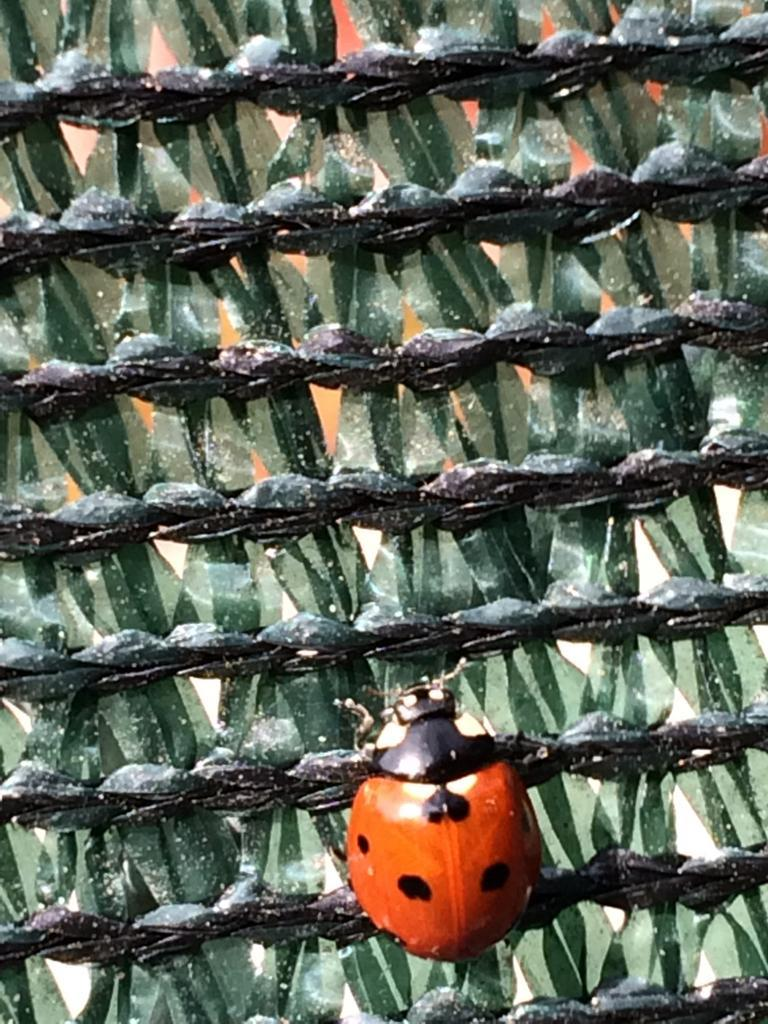ladybug: (329, 651, 556, 971)
